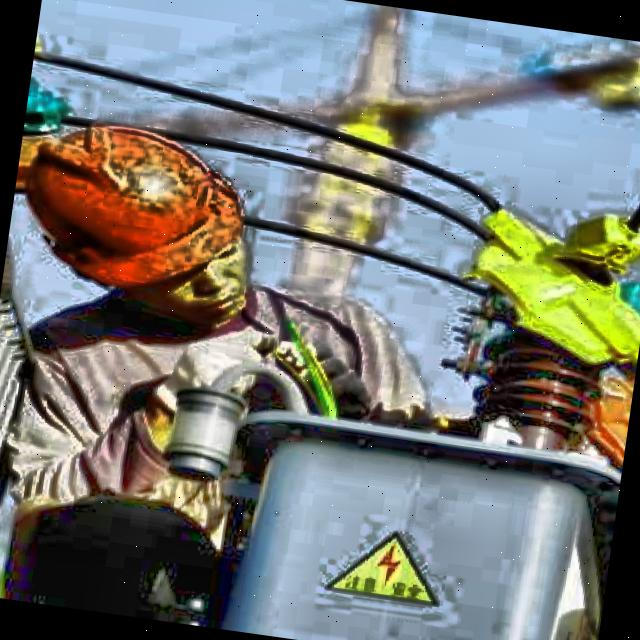helmet: (12, 100, 290, 326)
